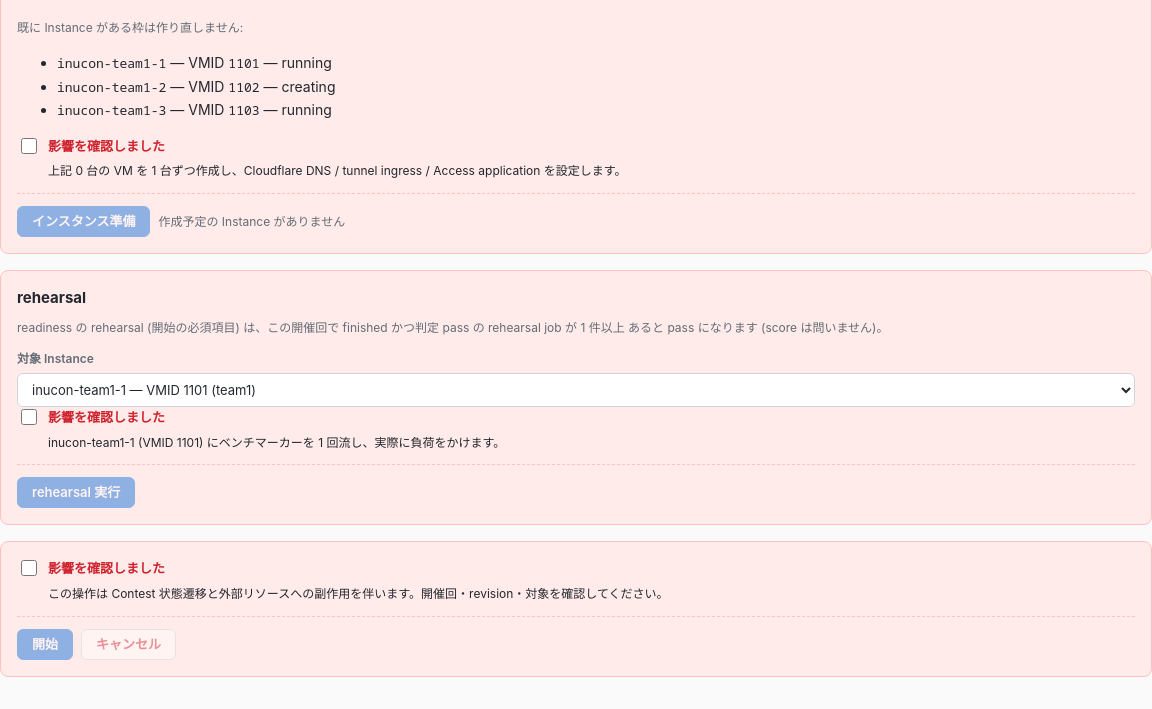
ContestAdmin › Overview の rehearsal › running の Instance だけを選ばせ、確認するまで押せず、押すと選んだ instanceId で enqueueRehearsal を呼んで job へ誘導する
(page scrolled)
Select "inucon-team1-3 — VMID 1103 (team1)" in the dropdown labelled "対象 Instance" at point(576, 390), box [17,373,1135,407]
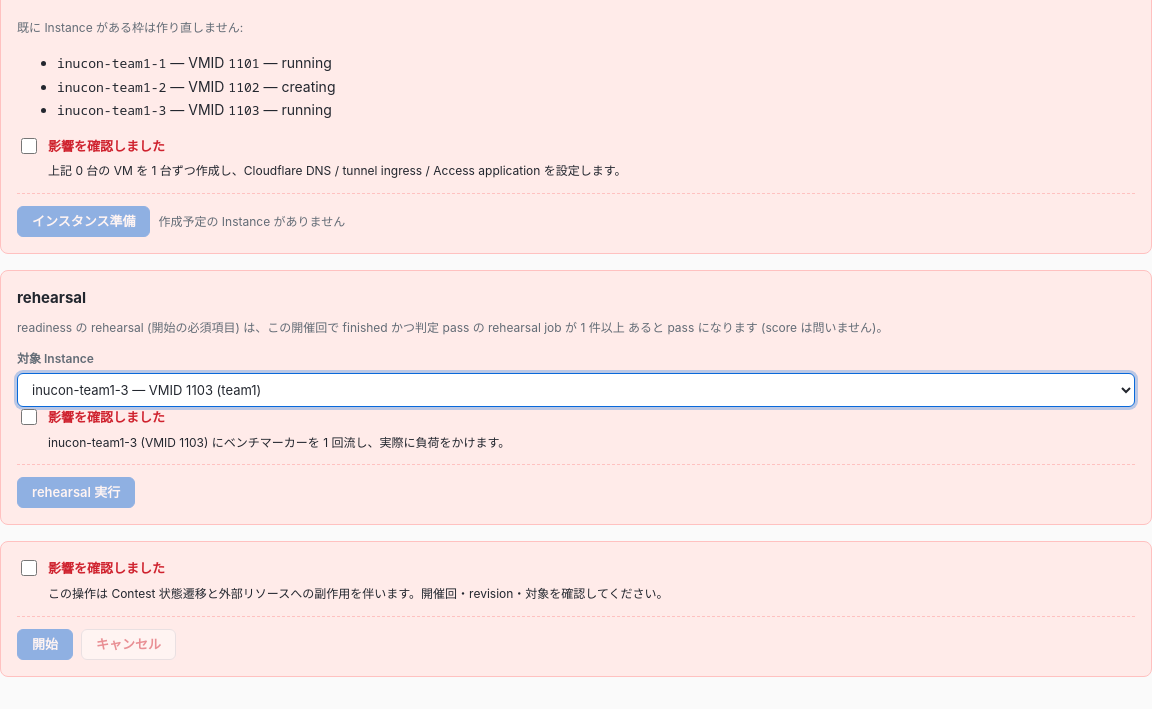
Check: the button "rehearsal 実行" is disabled, box [17,477,135,508]
Click the 2nd checkbox at point(29, 417), box [21,409,37,425]
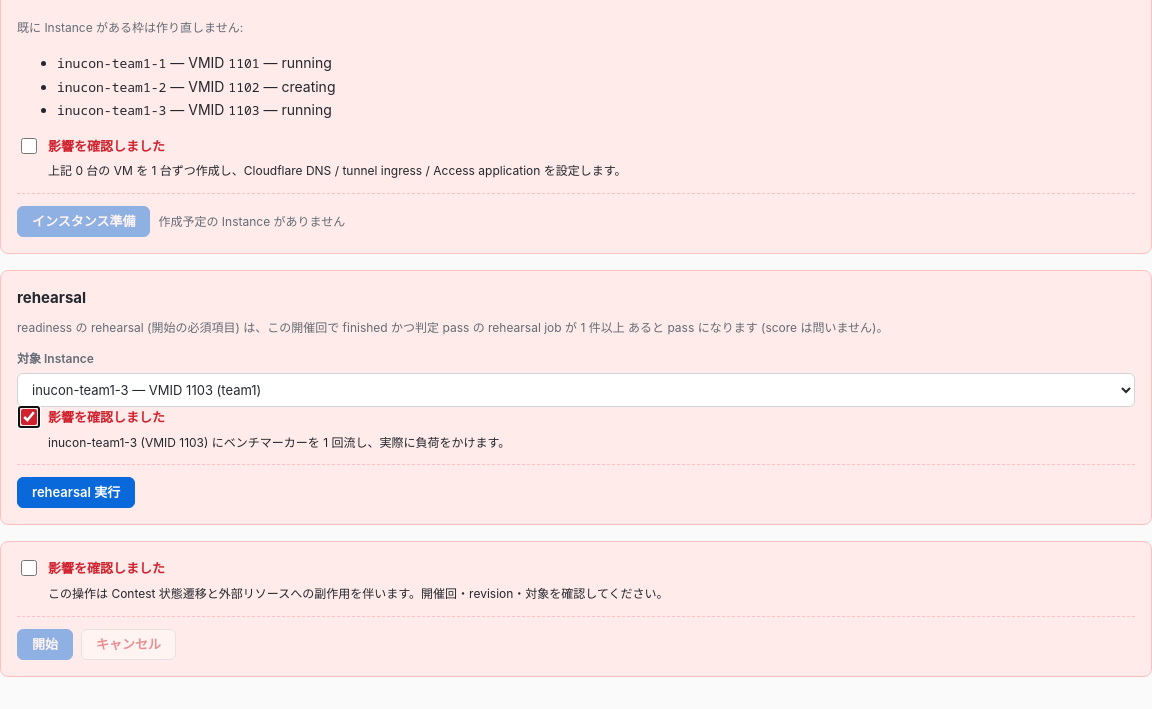
Check: the button "rehearsal 実行" is enabled
Click the button "rehearsal 実行" at point(76, 493), box [17,477,135,508]
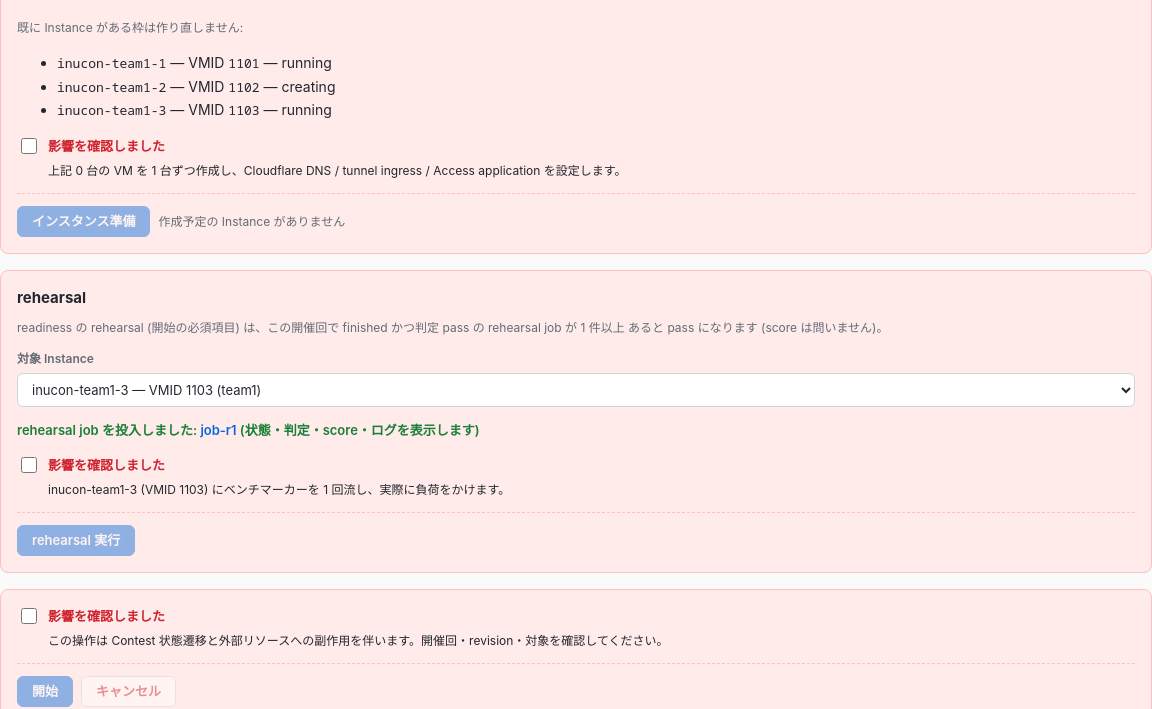
Check: the button "rehearsal 実行" is disabled, box [17,525,135,556]
